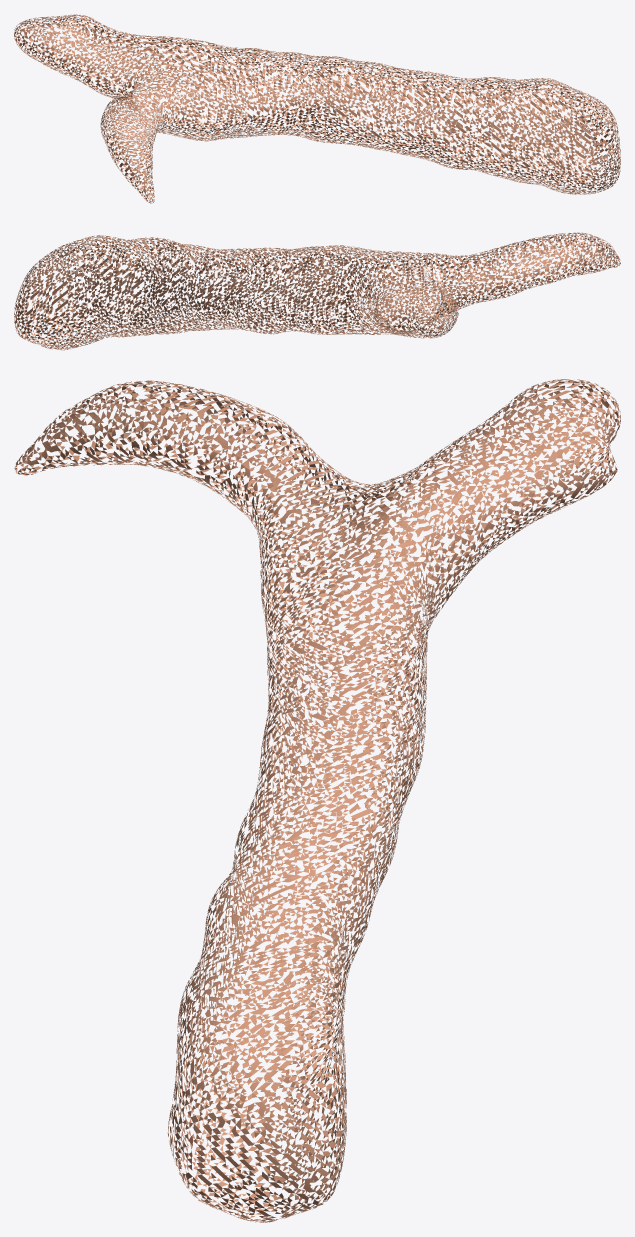
Rendered from morph_004.glb.
3 renders of one model, top to bottom at view 1: azimuth 30°, elevation 25°; view 2: azimuth 150°, elevation 25°; view 3: azimuth 270°, elevation 25°, orthographic. The views are drawn at different scales.
Size of the model in its own units: 128 by 50.54 by 67.11.
